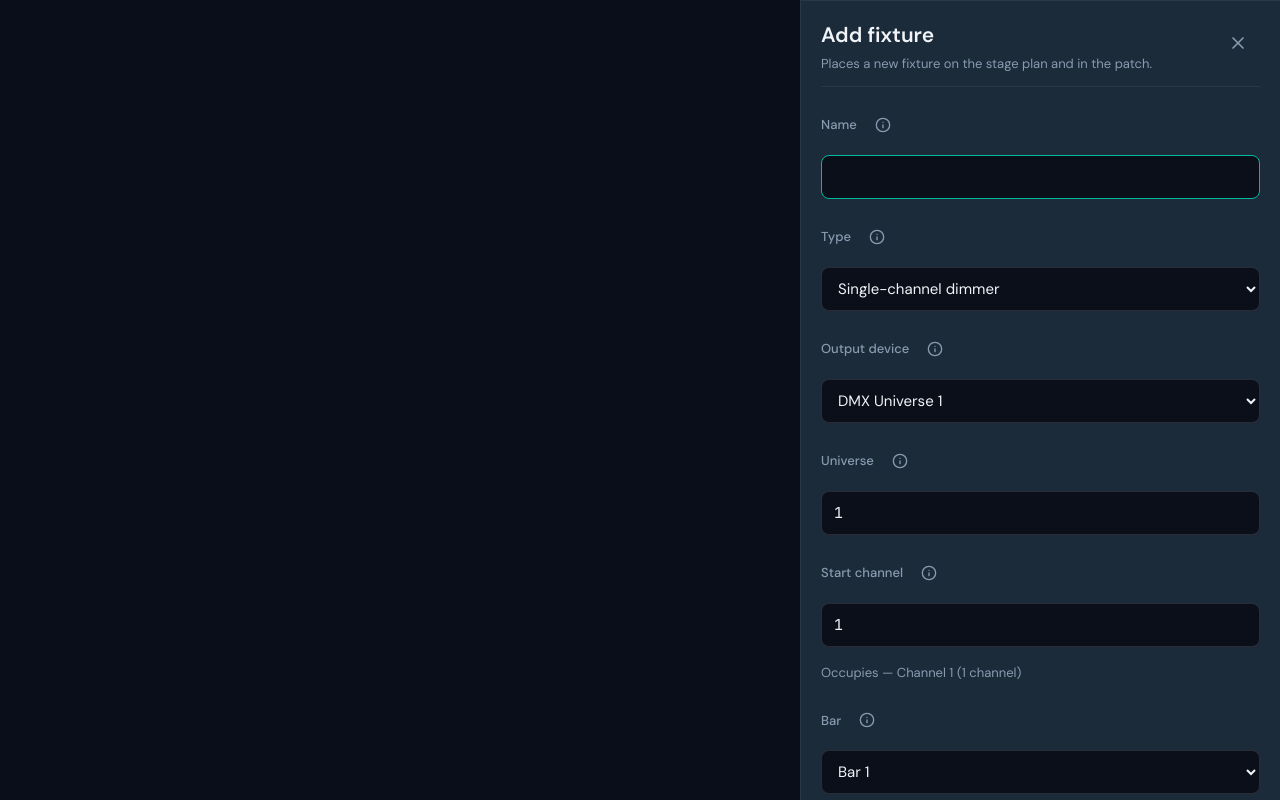
Test: FixtureSheet occupancy (§21.18, §9.1) › recalculates live when the start channel changes
Replace the text in the number field labelled "Start channel" with "10" at (1040, 625), box 821,603 -> 1260,647
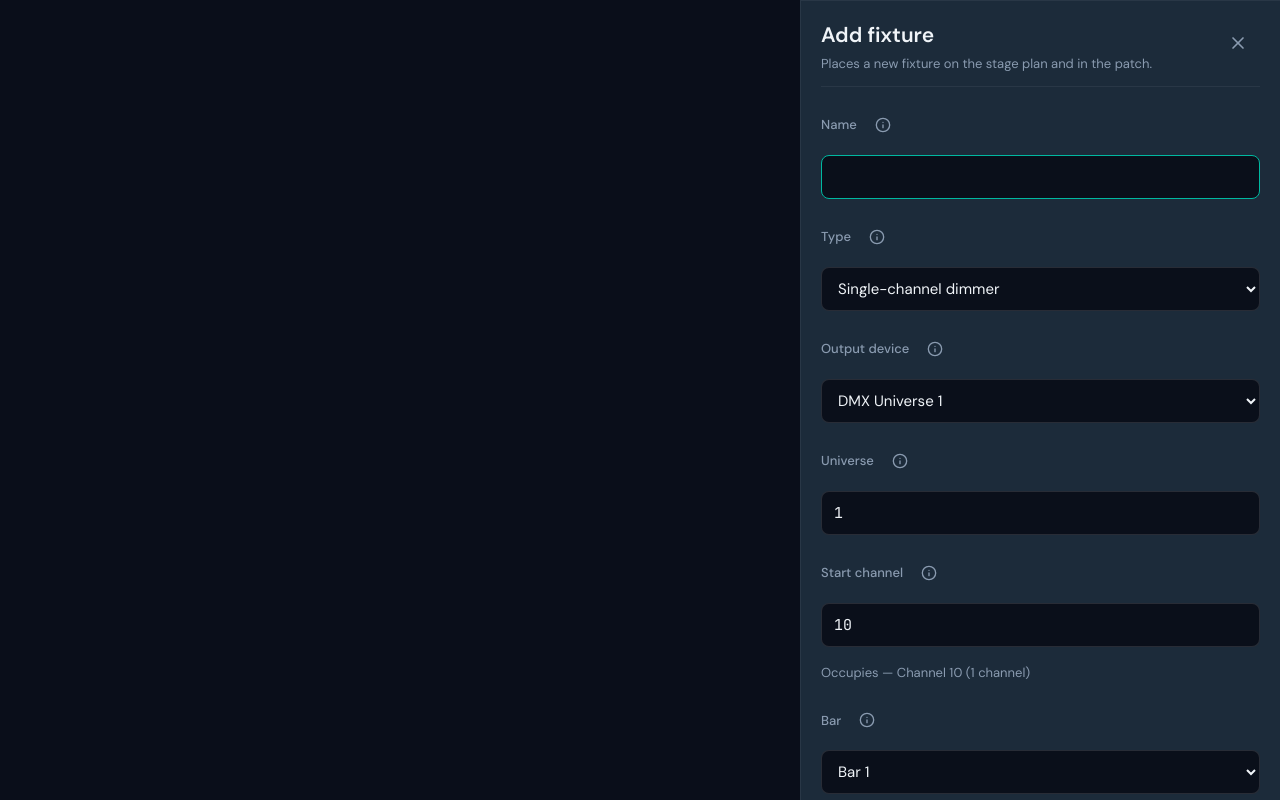
Expected: the text "Occupies — Channel 10 (1 channel)" is shown, 821,664 -> 1030,681
